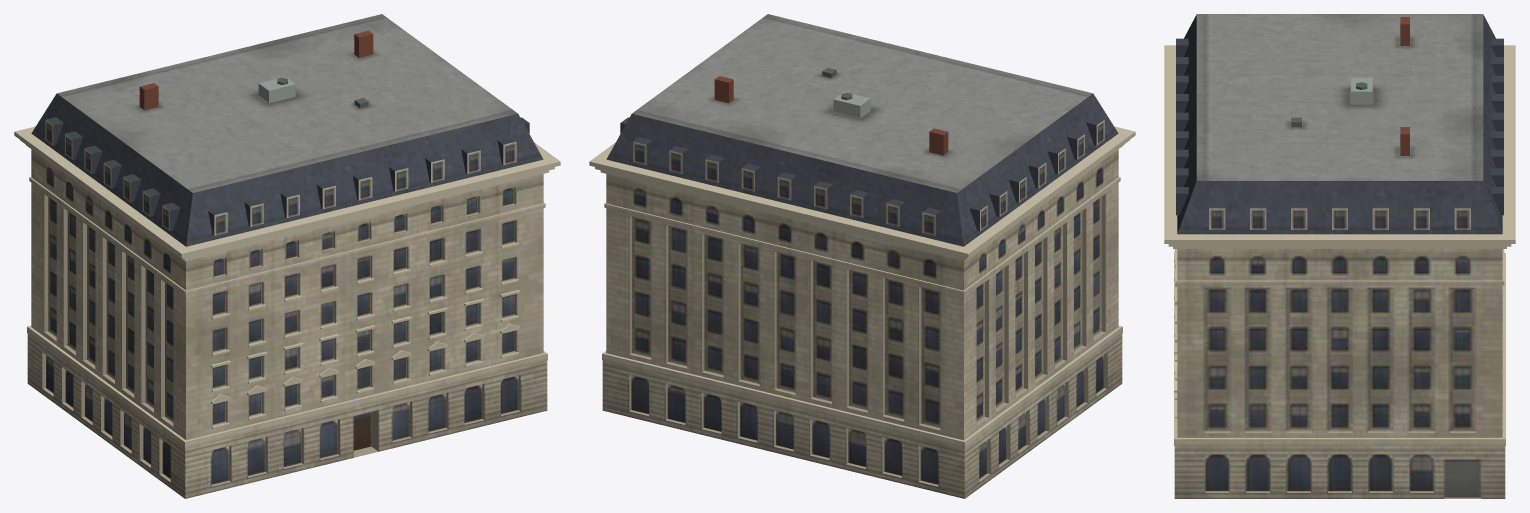
Rendered from dc_beaux_a.glb.
3 views of the same model, side by side, from view 1: azimuth 30°, elevation 25°; view 2: azimuth 150°, elevation 25°; view 3: azimuth 270°, elevation 25° (orthographic). The views are drawn at different scales.
Visible parts, largest first — view 1: dc_beaux_a; view 2: dc_beaux_a; view 3: dc_beaux_a.
Part boxes in pixels (bbox=[...]): dc_beaux_a: bbox=[14, 14, 560, 498]; dc_beaux_a: bbox=[589, 14, 1135, 498]; dc_beaux_a: bbox=[1164, 14, 1515, 498].
Bounding box in the file's own units: 42.4 × 33.6 × 32.4.
Materials: 1 (1 with a texture image).
